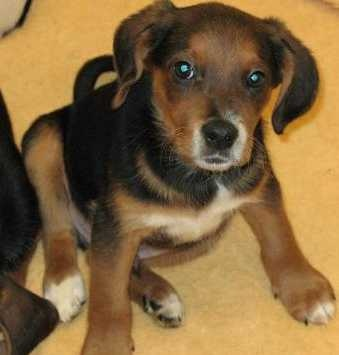dog: (24, 4, 324, 355)
